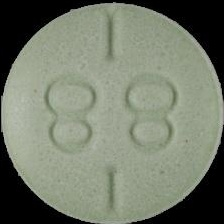0074-6594: (0, 0, 224, 224)
